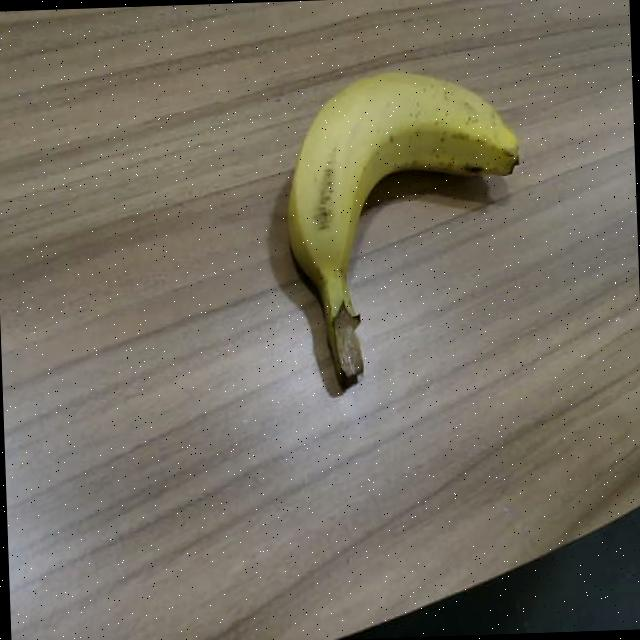Ripe: (271, 19, 542, 400)
